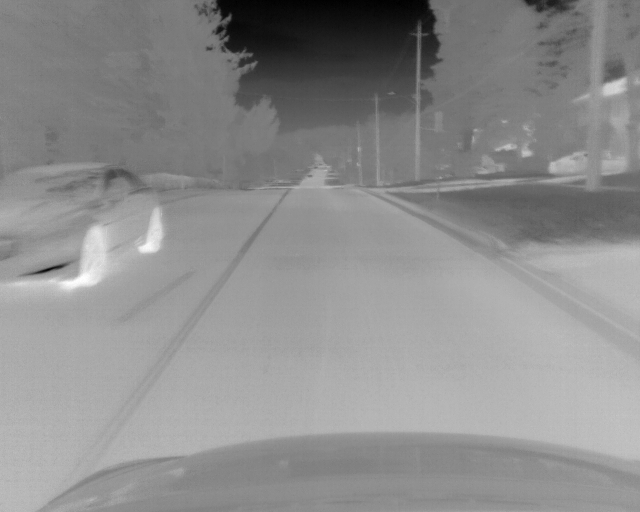car: (1, 161, 165, 289), (549, 150, 625, 175)
